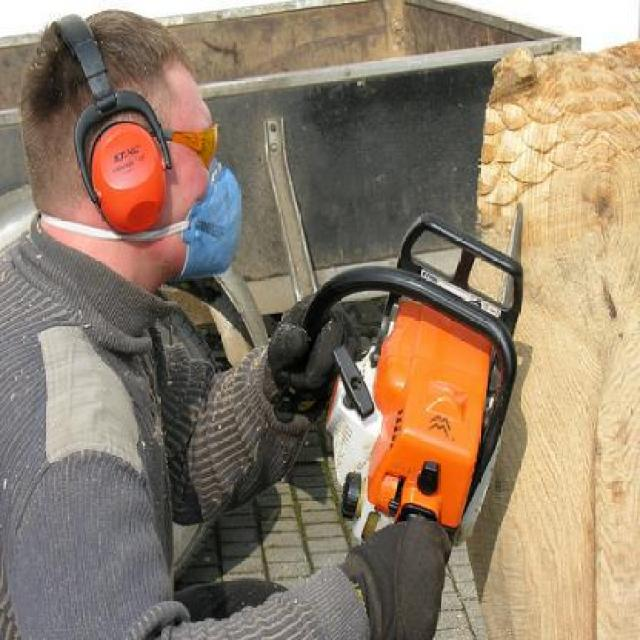Chainsaw: (302, 202, 522, 548)
